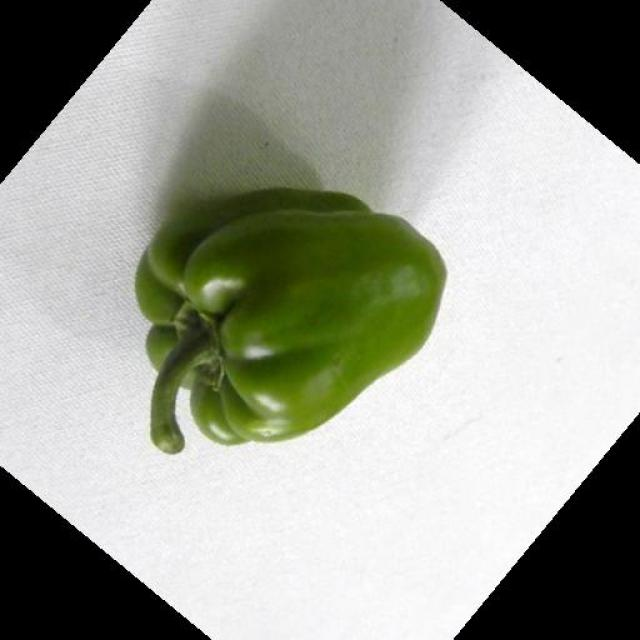Fresh_Capsicum: (118, 171, 450, 473)
